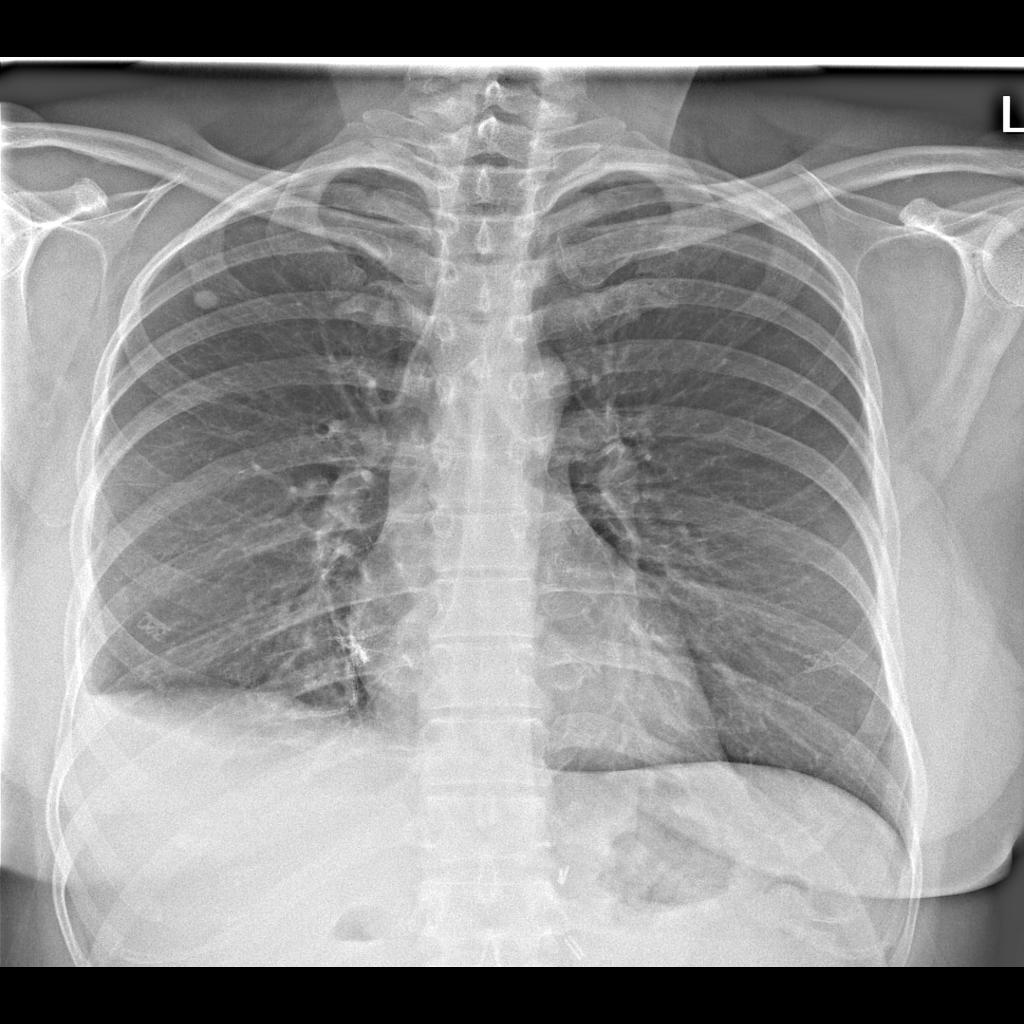Nodule: (187, 282, 228, 318)
